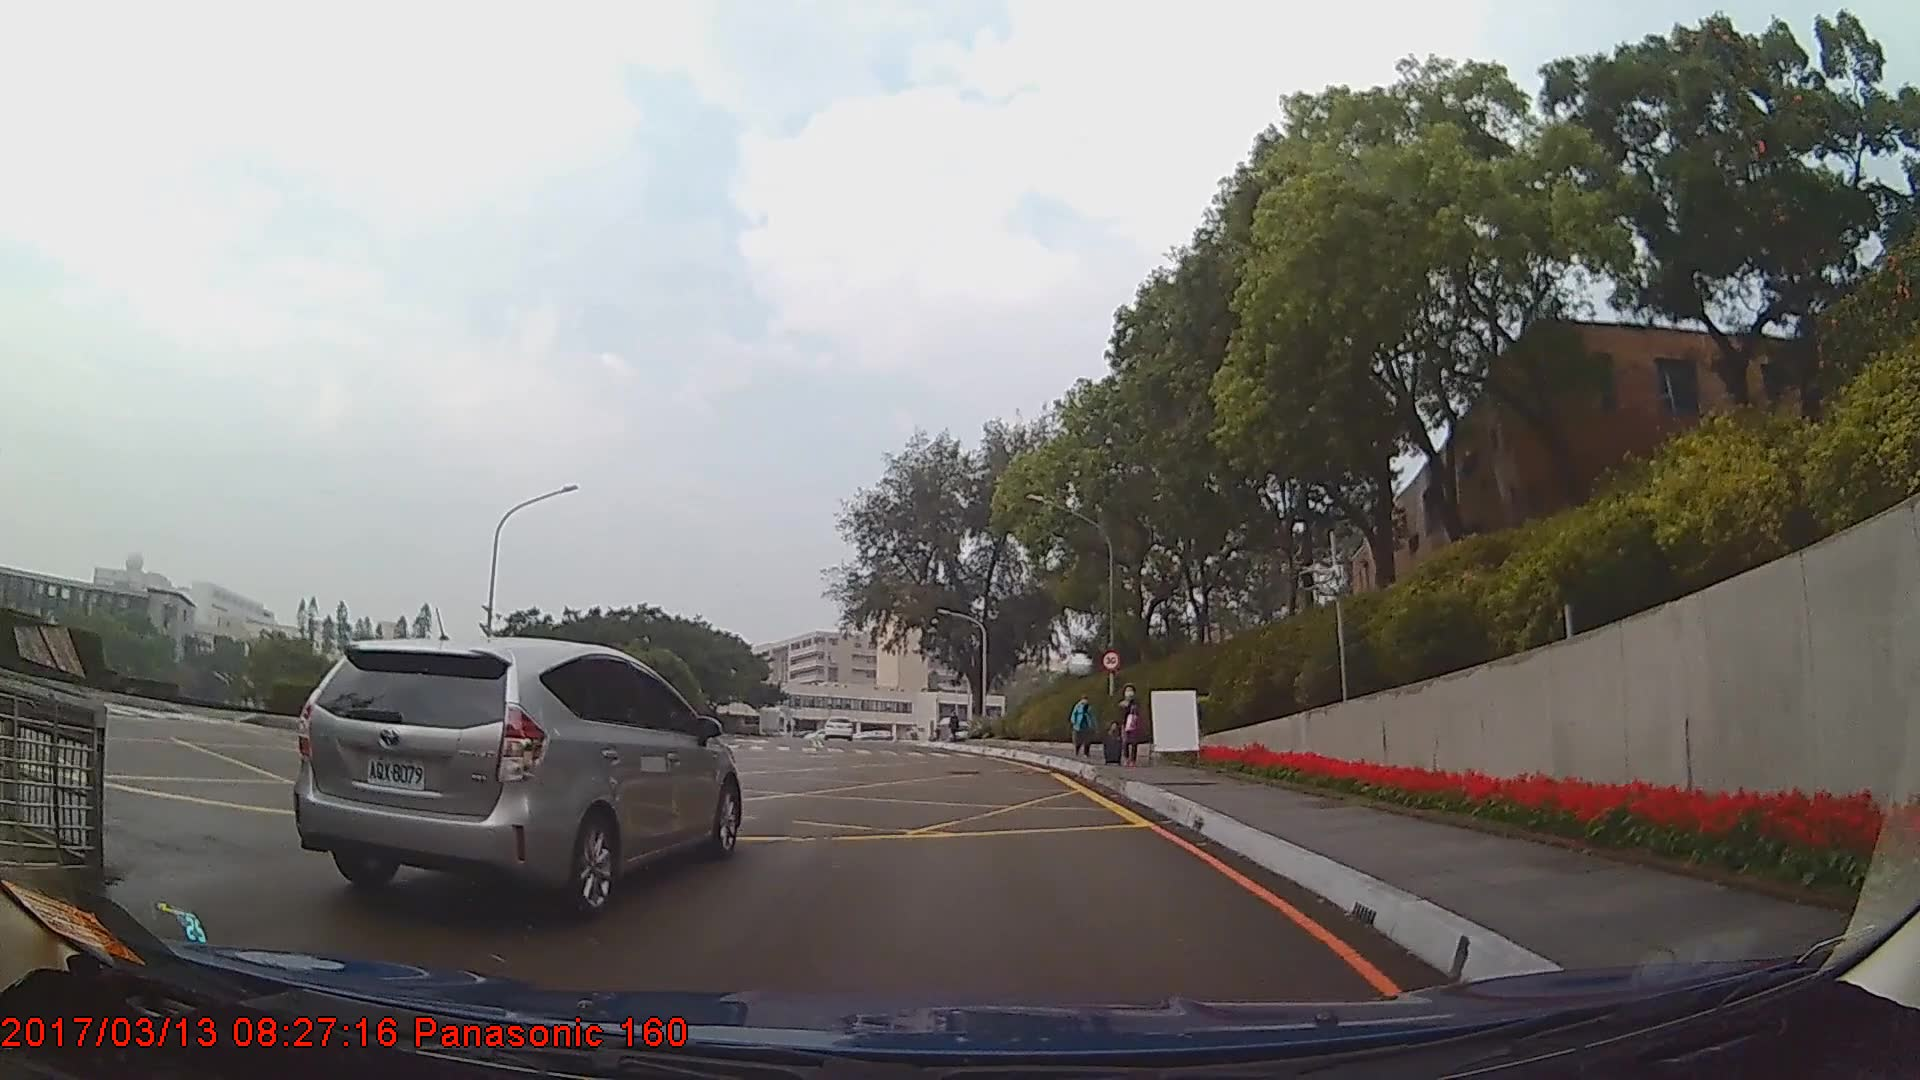pedestrian: (1104, 685, 1143, 765), (1067, 692, 1093, 757)
vehicle: (288, 632, 744, 917), (821, 712, 855, 739)
